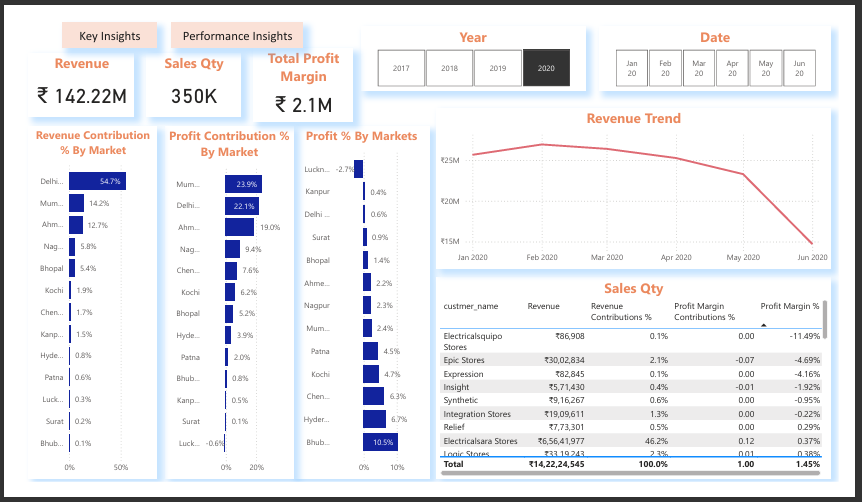

The page's visual inventory and layout, read from the dashboard file:
{"tool":"powerbi","page":{"name":"Profit Analysis","canvas":[1280,720],"ordinal":1},"visuals":[{"type":"card","title":"Revenue","fields":{"Values":["Base_measure.Revenue"]},"box":[14.7,51.4,165.1,99],"z":0},{"type":"card","title":"Sales Qty","fields":{"Values":["Base_measure.sales Qty"]},"box":[199.3,51.4,148,99],"z":1000},{"type":"barChart","title":"Profit % By Markets","fields":{"Y":["Base_measure.Profit Margin %"],"Category":["sales markets.markets_name"]},"box":[428.1,166,212.7,550.3],"z":2000},{"type":"barChart","title":"Profit Contribution % By Market","fields":{"Y":["Base_measure.Total Profit Margin"],"Category":["sales markets.markets_name"]},"box":[227.8,166,200.3,550.3],"z":3000},{"type":"slicer","title":"Year ","fields":{"Values":["sales date.year"]},"box":[534.3,10,350,100],"z":4000},{"type":"slicer","title":"Date","fields":{"Values":["sales date.cy_date"]},"box":[905.7,9.6,362.3,100.2],"z":5000},{"type":"tableEx","title":"Sales Qty","fields":{"Values":["sales customers.custmer_name","Base_measure.Revenue","Base_measure.Revenue Contributions %","Base_measure.Profit Margin Contributions %","Base_measure.Profit Margin %"]},"box":[651.8,402.1,616.1,314.2],"z":6000},{"type":"lineChart","title":"Revenue Trend","fields":{"Y":["Base_measure.Revenue"],"Category":["sales date.cy_date"]},"box":[651.8,137.2,616.1,251.1],"z":8000},{"type":"card","title":"Total Profit Margin","fields":{"Values":["Base_measure.Total Profit Margin"]},"box":[365.6,44,156.5,113.7],"z":9000},{"type":"barChart","title":"Revenue Contribution % By Market","fields":{"Y":["Base_measure.Revenue Contributions %"],"Category":["sales markets.markets_name"]},"box":[15.1,166,200.3,550.3],"z":10000},{"type":"actionButton","box":[68.5,3.7,146.7,40.4],"z":10001},{"type":"actionButton","box":[238.5,3.7,205.4,40.4],"z":10002}]}

Visuals, with their boxes on the page's 1280x720 design canvas (x1, y1, x2, y2). These are canvas units, not pixel positions in the 862x502 screenshot, which may show the page scaled, cropped or inside an application window:
"Revenue" card: (15, 51, 180, 150)
"Sales Qty" card: (199, 51, 347, 150)
"Profit % By Markets" barChart: (428, 166, 641, 716)
"Profit Contribution % By Market" barChart: (228, 166, 428, 716)
"Year " slicer: (534, 10, 884, 110)
"Date" slicer: (906, 10, 1268, 110)
"Sales Qty" tableEx: (652, 402, 1268, 716)
"Revenue Trend" lineChart: (652, 137, 1268, 388)
"Total Profit Margin" card: (366, 44, 522, 158)
"Revenue Contribution % By Market" barChart: (15, 166, 215, 716)
actionButton: (68, 4, 215, 44)
actionButton: (238, 4, 444, 44)
